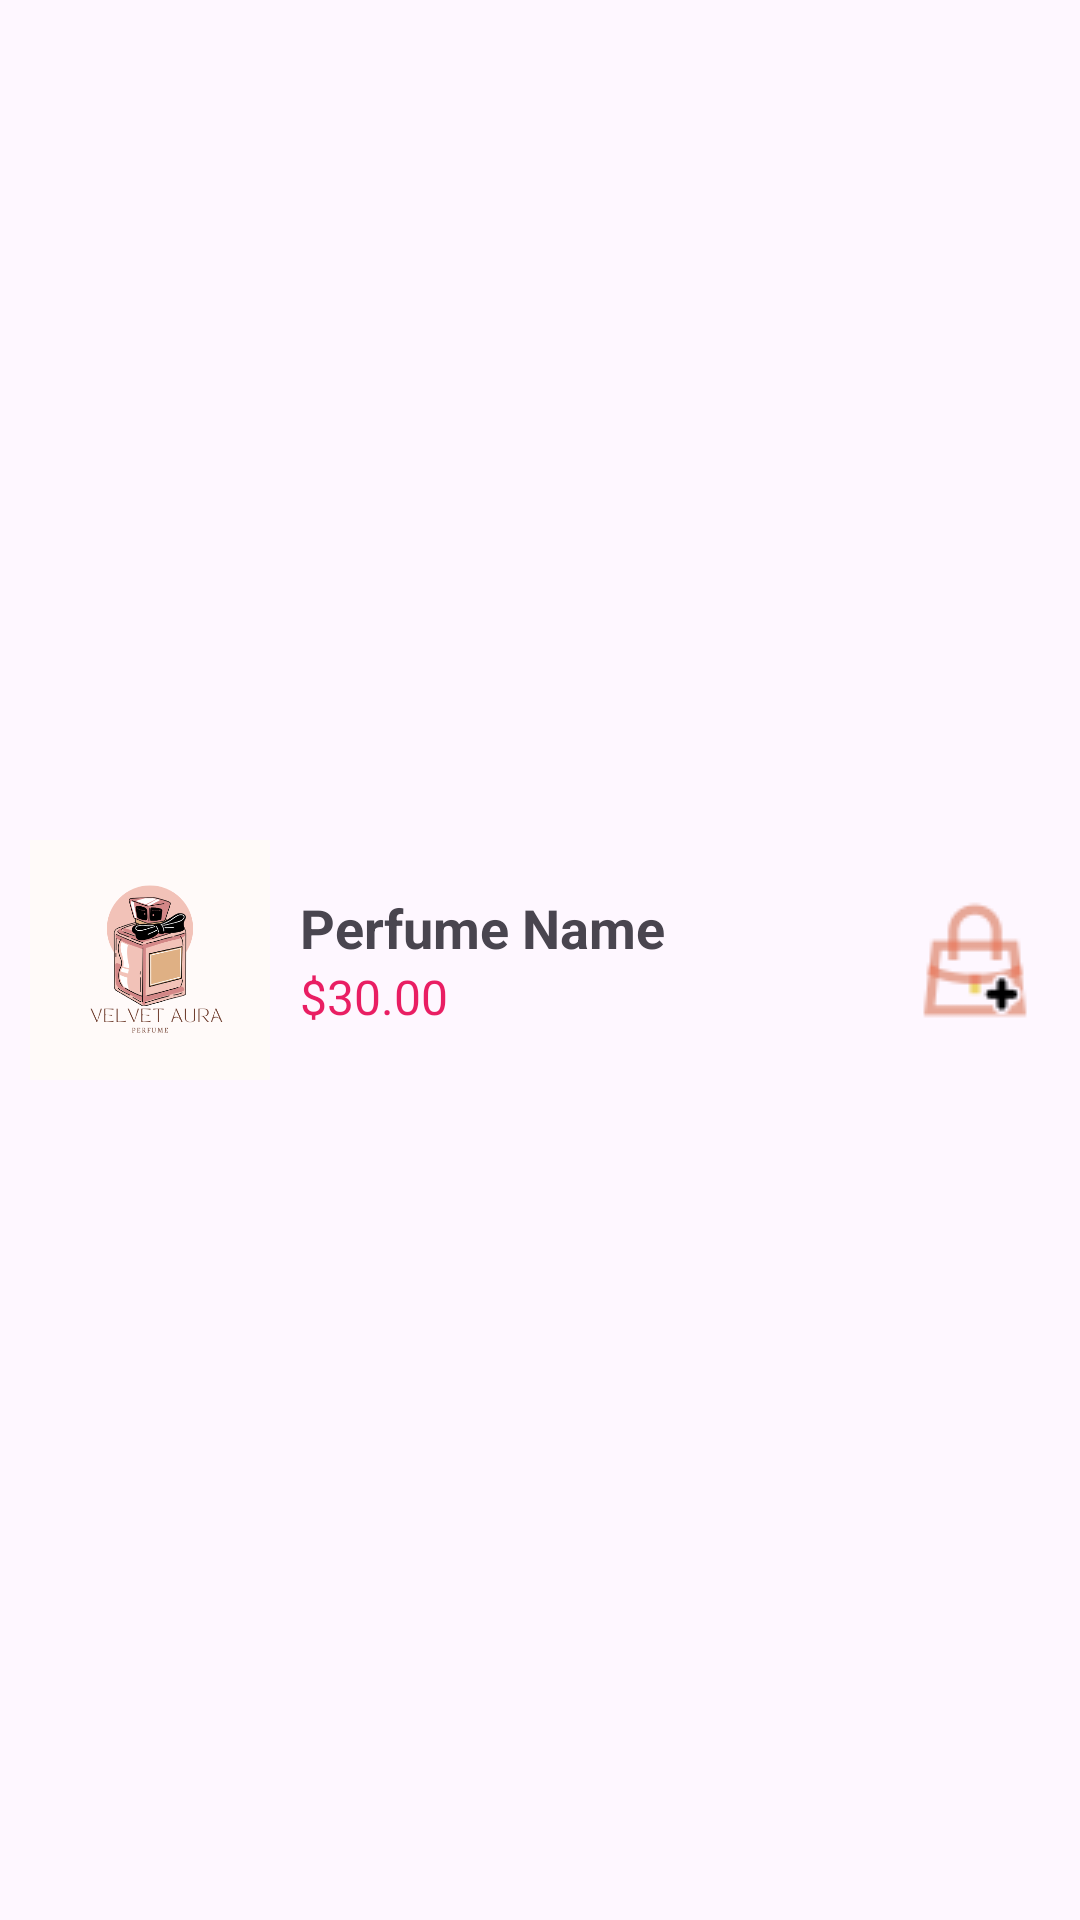

Icons on this 1080px×1920px Android screen, each with its box as [x1, y1, x2, y2]:
Add to Cart: [923, 903, 1027, 1017]
